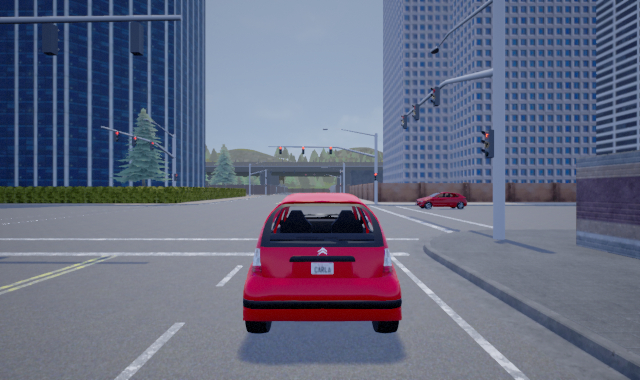traffic_light: (480, 129, 495, 158), (430, 85, 441, 106), (412, 103, 420, 120), (400, 114, 408, 130), (131, 134, 137, 148), (149, 141, 155, 151), (115, 130, 120, 142), (278, 144, 283, 155), (300, 145, 305, 154), (373, 171, 377, 182), (174, 173, 179, 181), (329, 146, 332, 154)
vehicle: (242, 192, 401, 333), (417, 192, 467, 210)
